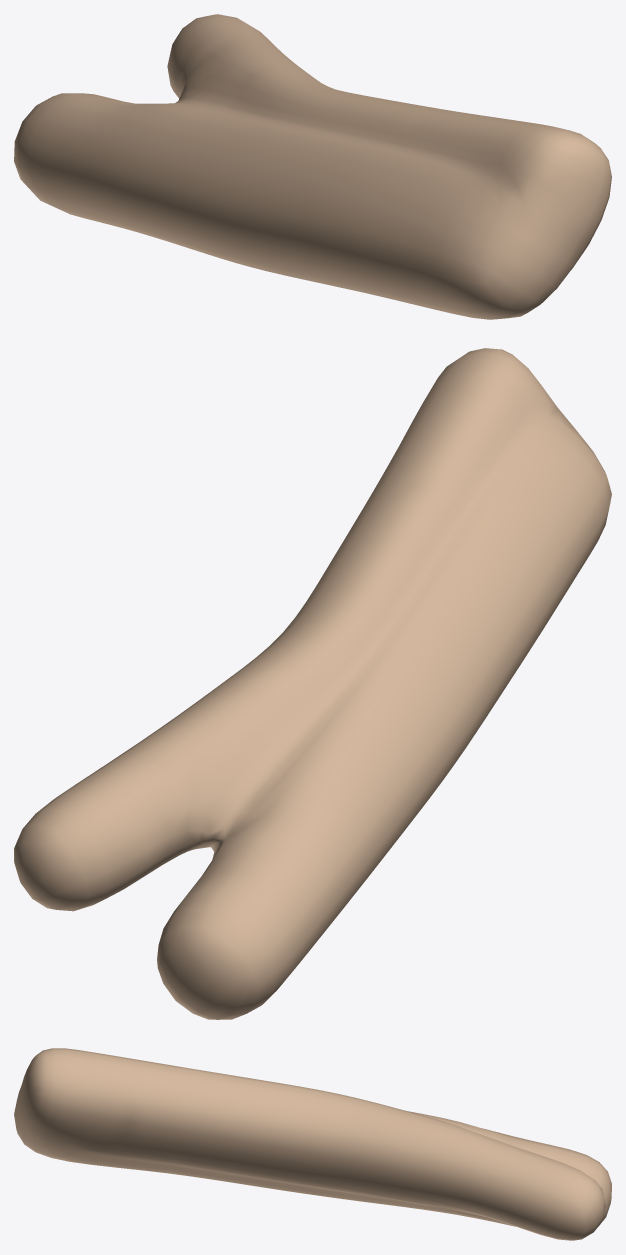
3 renders of one model, top to bottom at view 1: azimuth 30°, elevation 25°; view 2: azimuth 150°, elevation 25°; view 3: azimuth 270°, elevation 25°, orthographic. The views are drawn at different scales.
Visible parts, largest first — view 1: 右侧桡侧腕伸肌腱鞘; view 2: 右侧桡侧腕伸肌腱鞘; view 3: 右侧桡侧腕伸肌腱鞘.
Part boxes in pixels (box(x1,y1,x2,y2)): 右侧桡侧腕伸肌腱鞘: box(14, 14, 611, 319); 右侧桡侧腕伸肌腱鞘: box(14, 348, 611, 1019); 右侧桡侧腕伸肌腱鞘: box(14, 1048, 611, 1240).
Size of the model in its own units: 0.0156 by 0.0195 by 0.0477.
